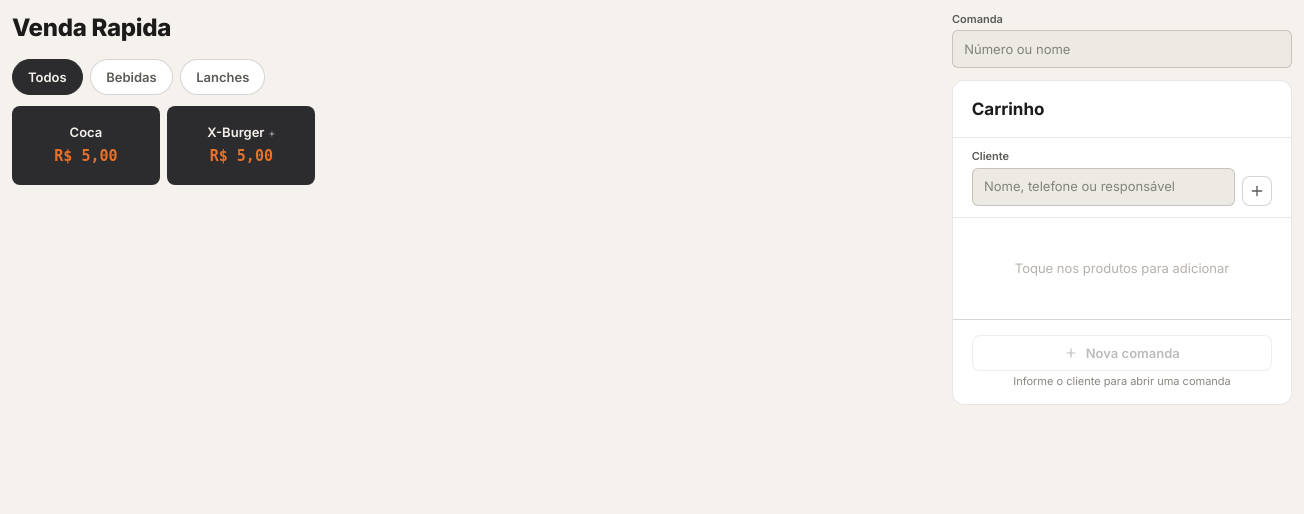
it: PdvPage › mantém o fluxo de venda avulsa quando não há comanda selecionada
Click the button "Coca R$ 5,00" at (86, 145), box x1=12 y1=106 x2=160 y2=185
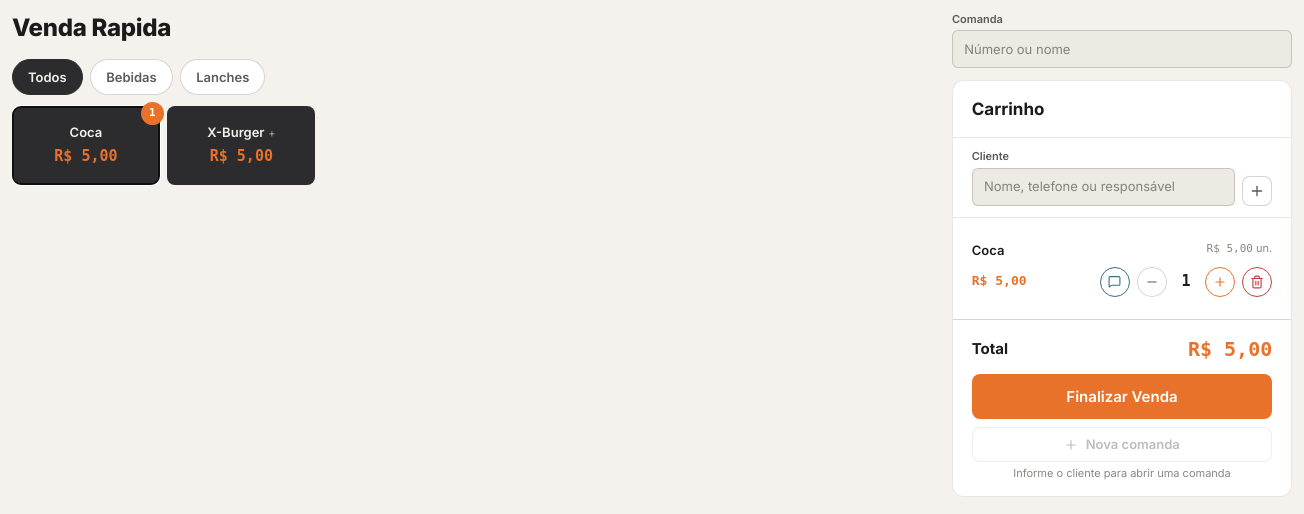
Expected: the button "Finalizar Venda" is shown, x1=972 y1=374 x2=1272 y2=419
